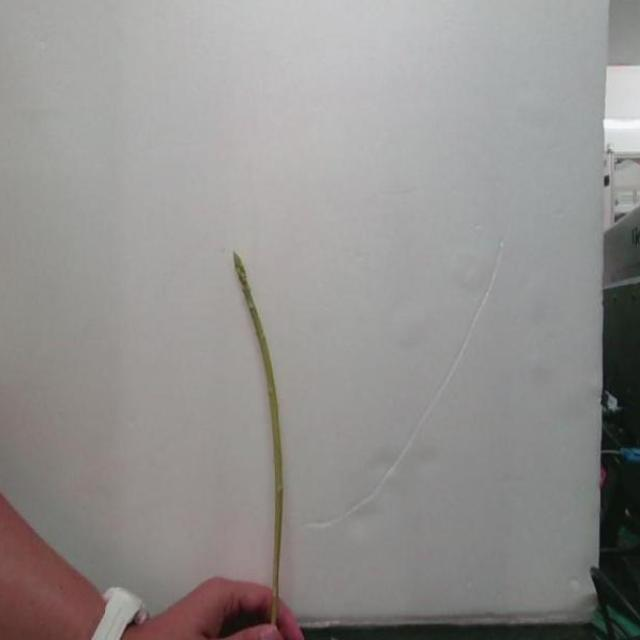aspargus: (232, 253, 284, 592)
